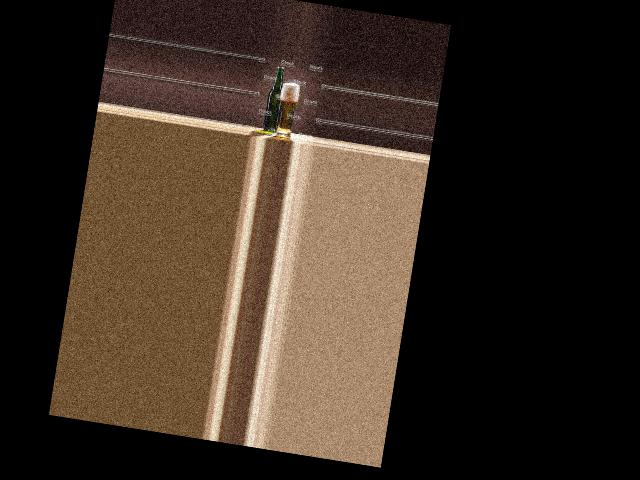beer: (262, 65, 287, 133)
